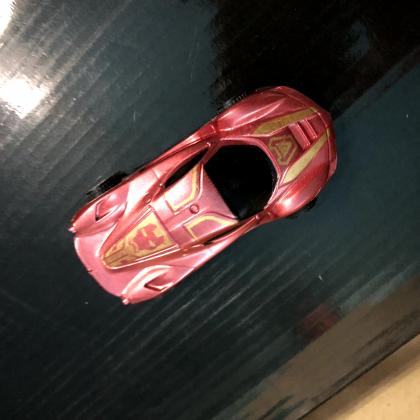Car: (65, 83, 342, 307)
